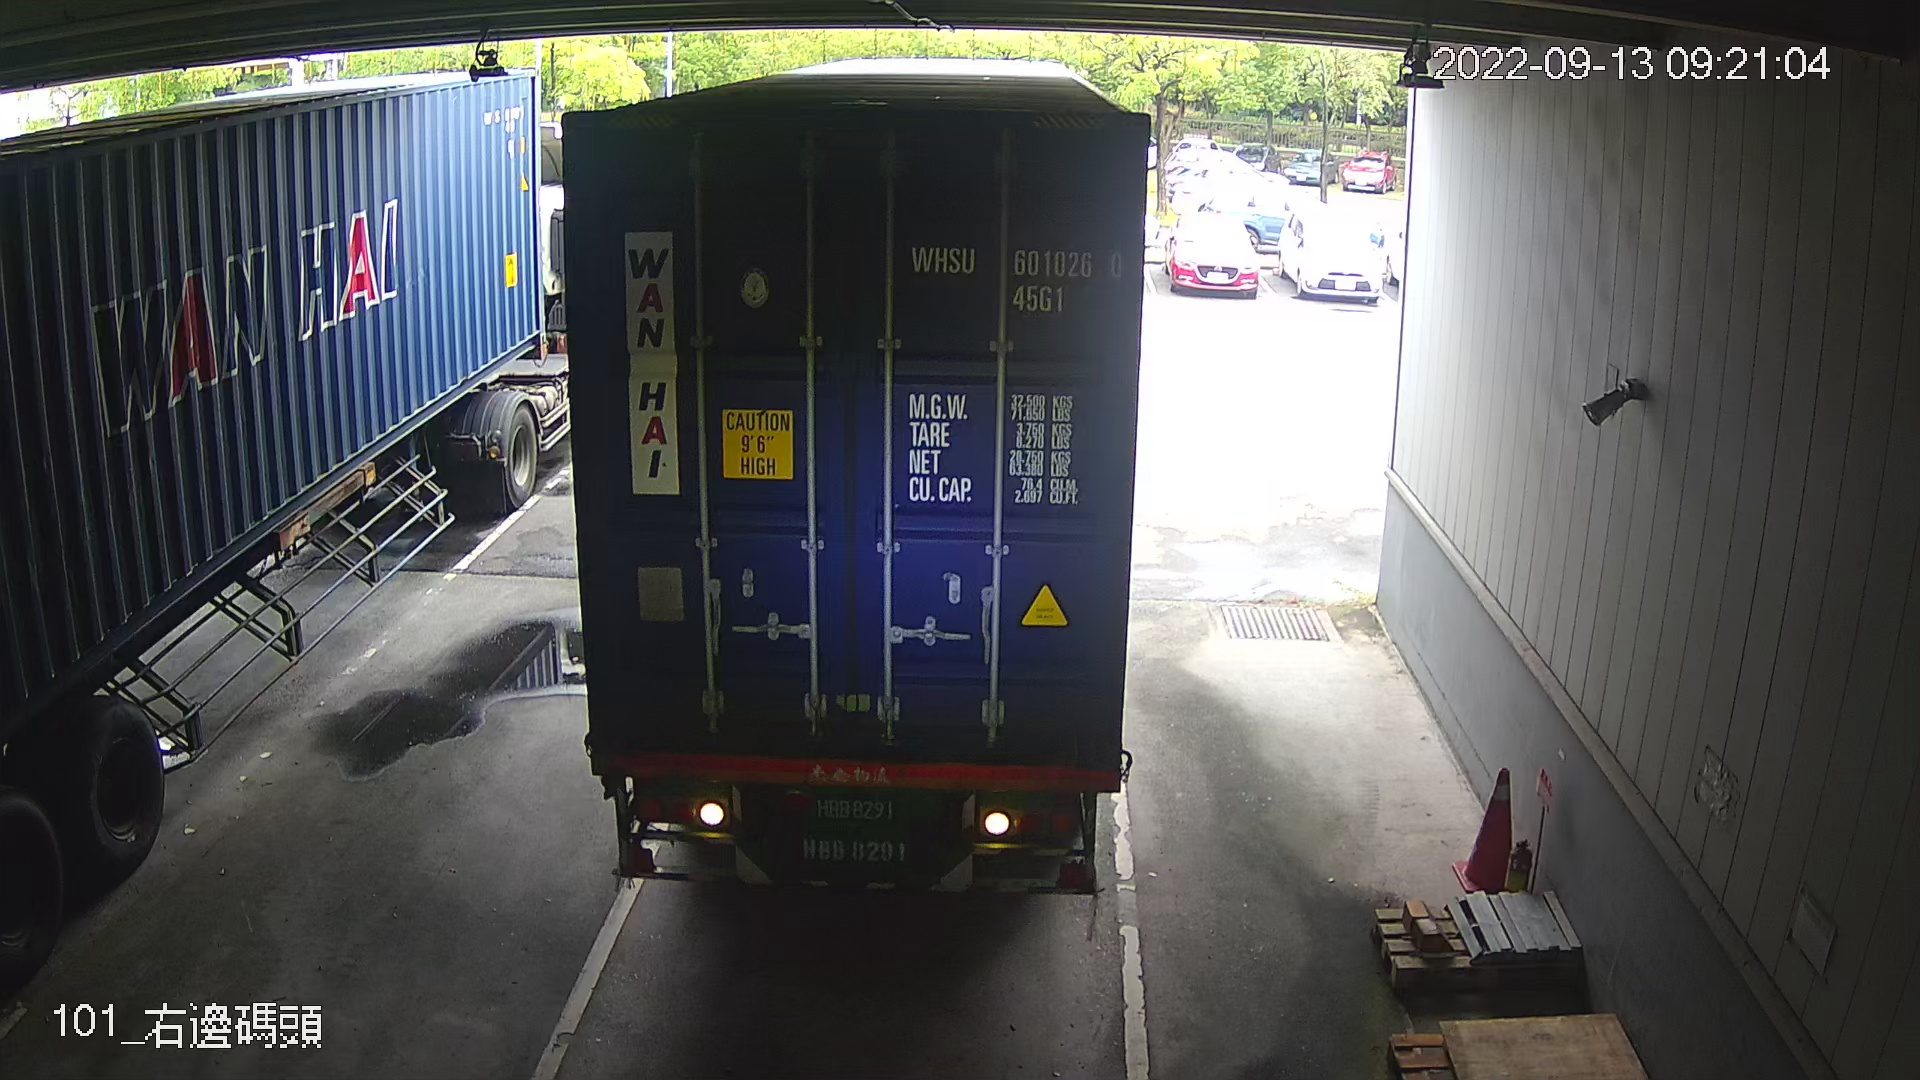container: (898, 229, 1135, 322)
